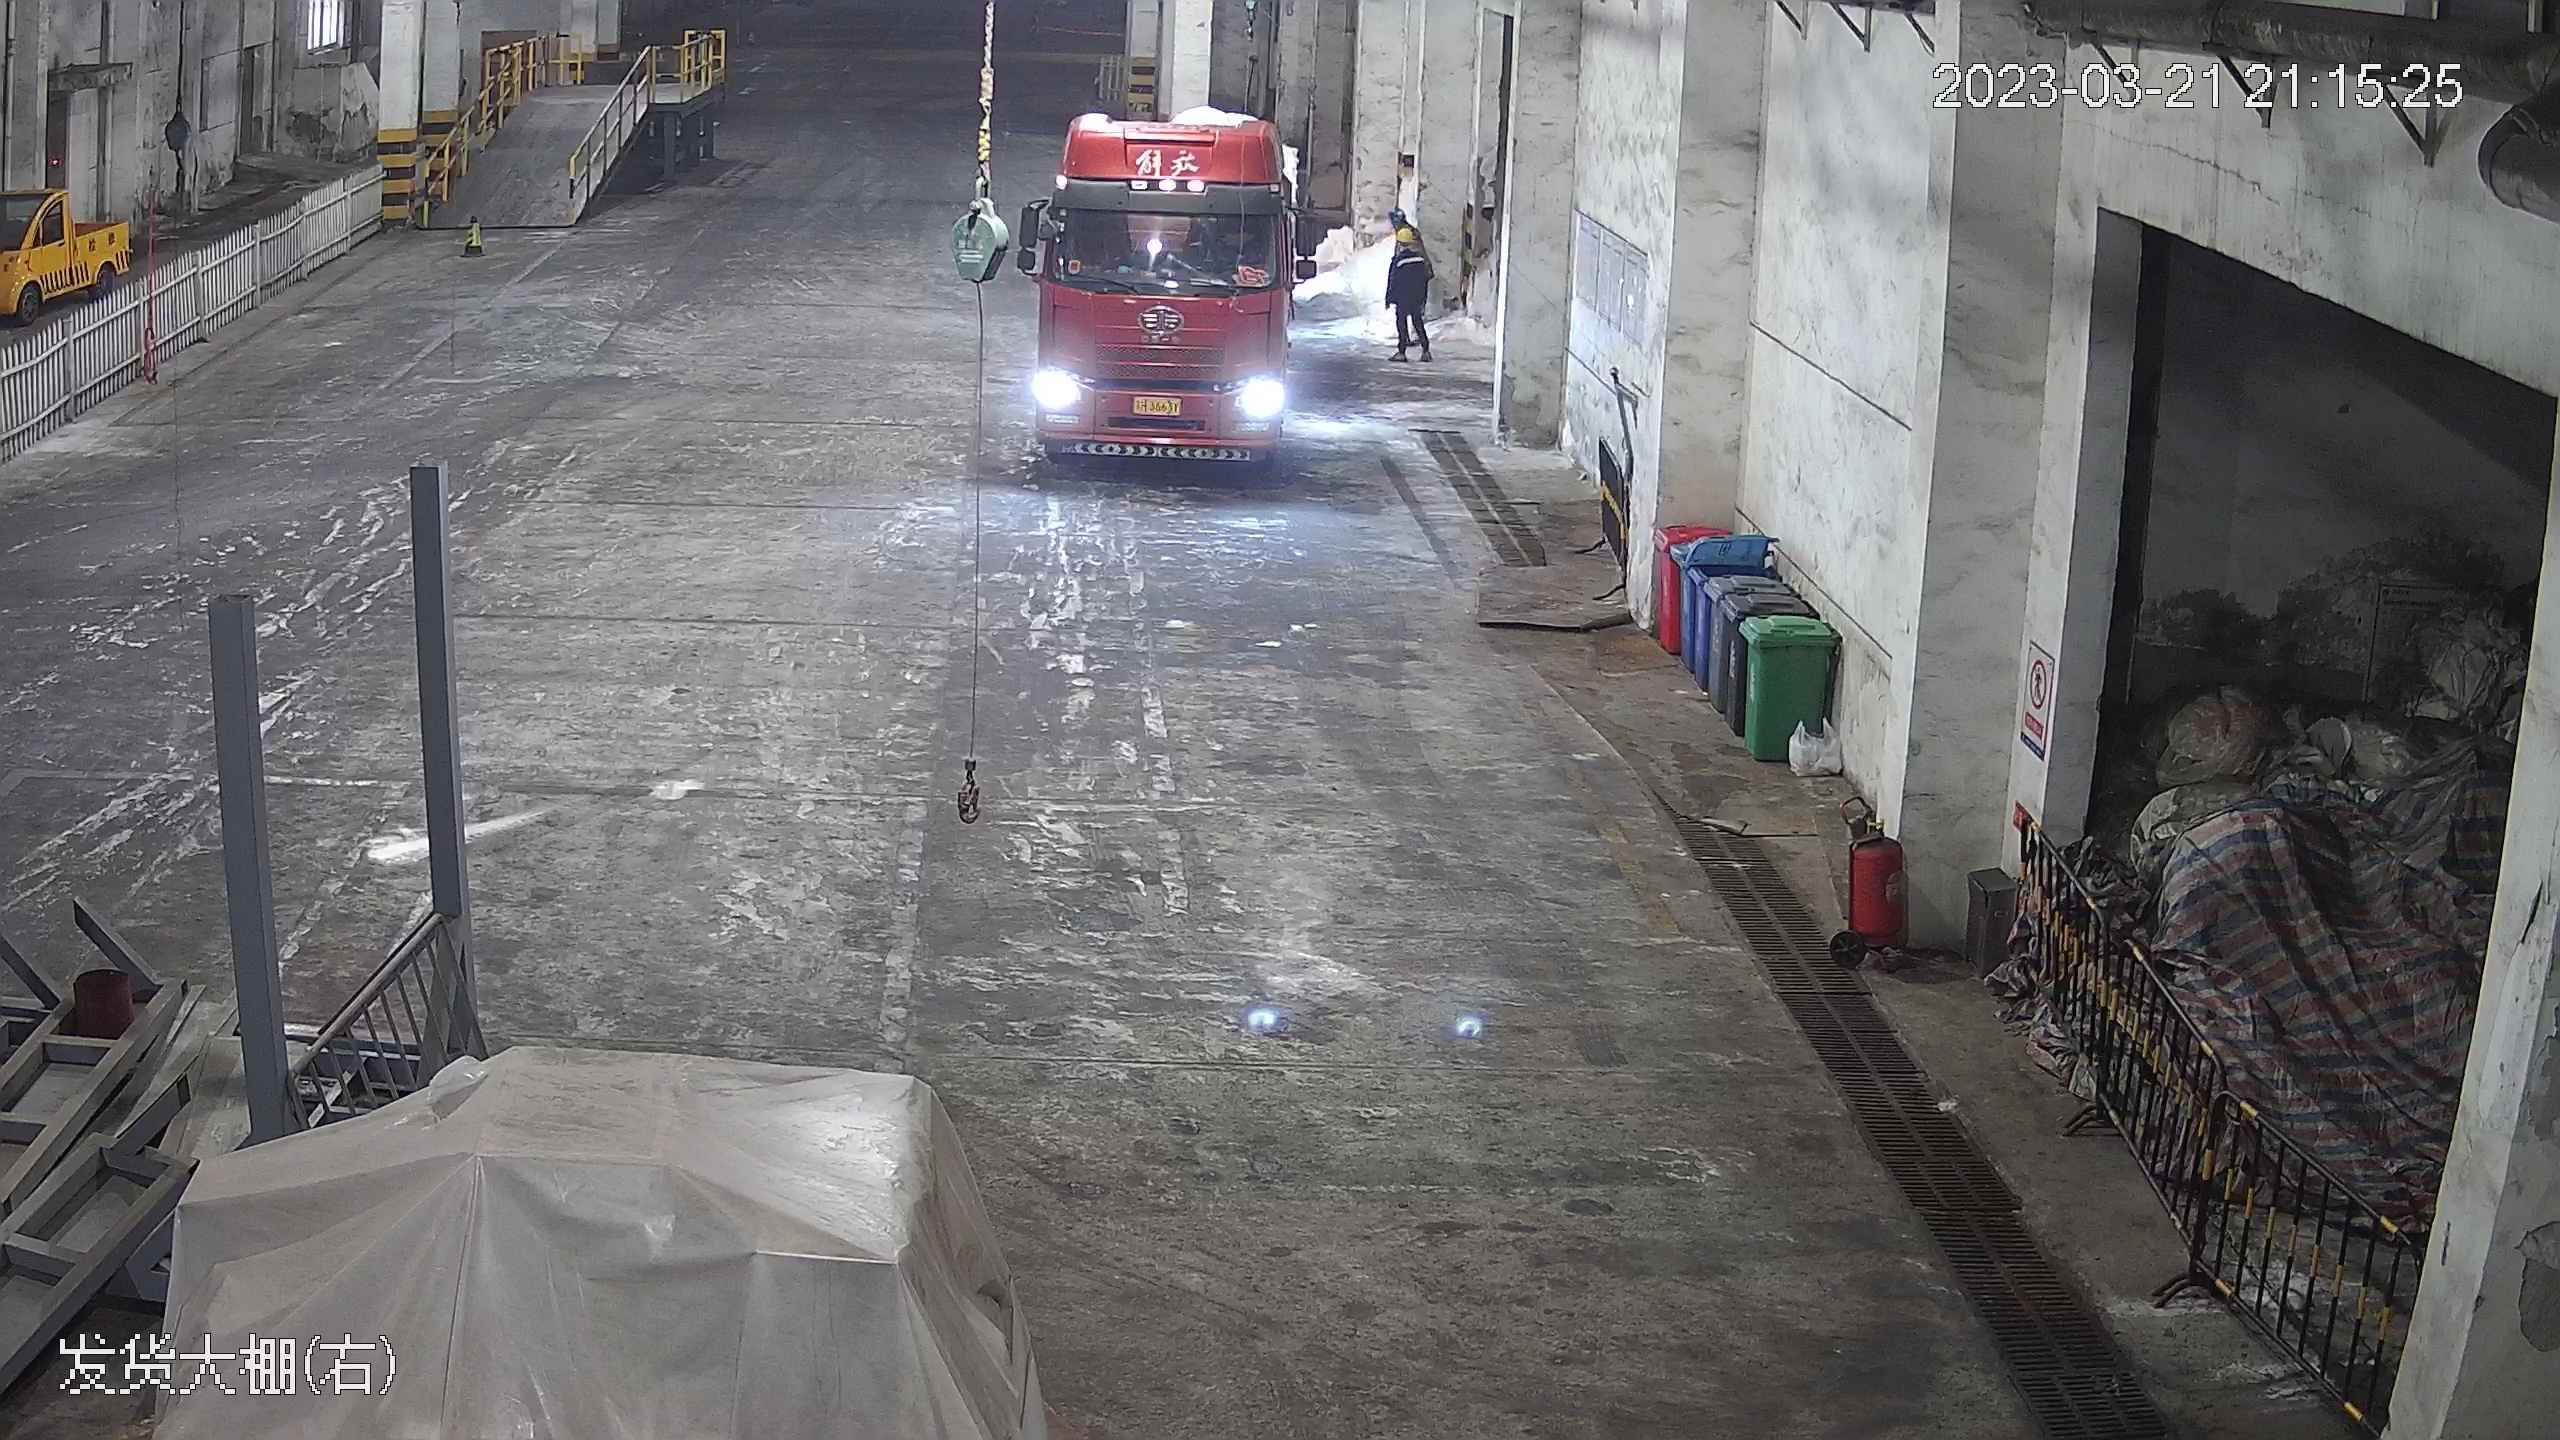head: (1386, 220, 1432, 272)
helmet: (1390, 221, 1424, 251)
people: (1381, 216, 1437, 356)
truck: (996, 99, 1326, 458)
